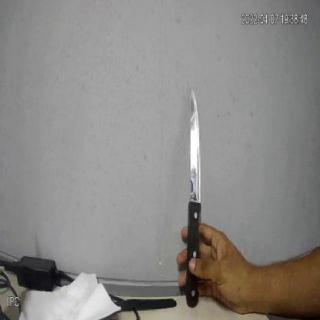knife: (183, 82, 211, 312)
